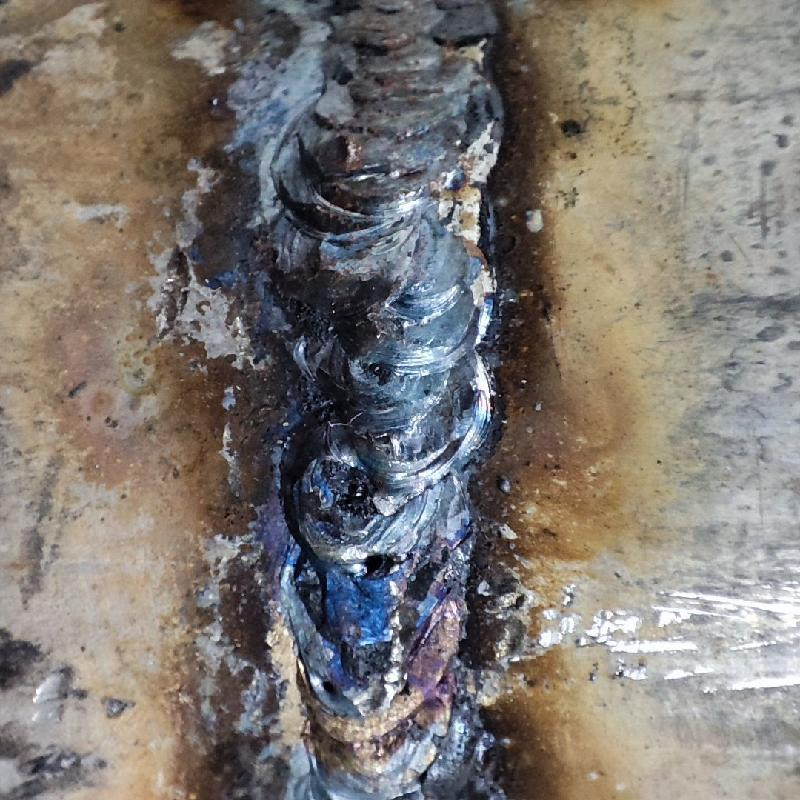Surface_pores: (348, 545, 402, 587), (311, 670, 350, 707)
